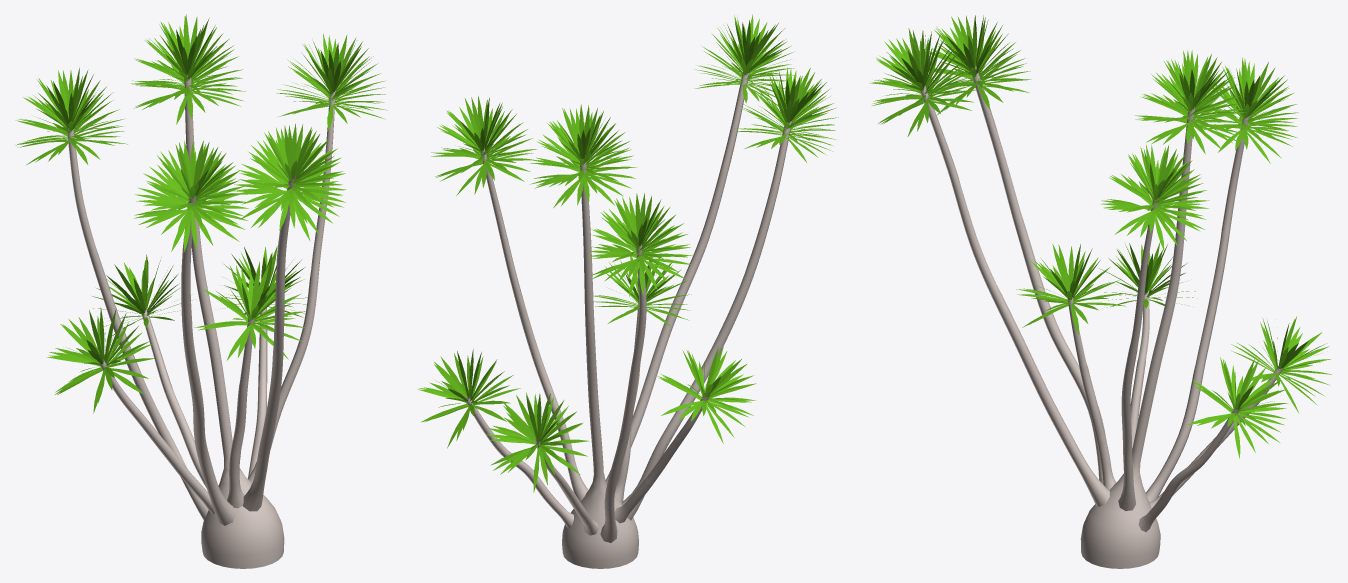
The model's file is NewTree3.FBX.
The picture shows the model from 3 angles, left to right: view 1: azimuth 30°, elevation 25°; view 2: azimuth 150°, elevation 25°; view 3: azimuth 270°, elevation 25°; orthographic projection. The views are drawn at different scales.
Parts seen in each view (by area): view 1: Foliage001; view 2: Foliage001; view 3: Foliage001.
Boxes of the visible parts, x1,y1,x2,y2 form: Foliage001: (15,14,386,568); Foliage001: (417,14,838,568); Foliage001: (869,15,1331,568).
Bounding box in the file's own units: 5.87 × 8.73 × 7.44.
